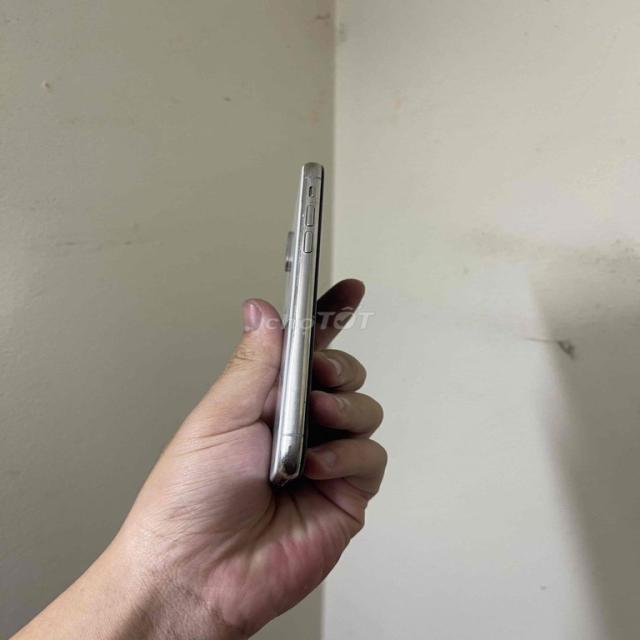gen_x_xs: (269, 162, 325, 486)
